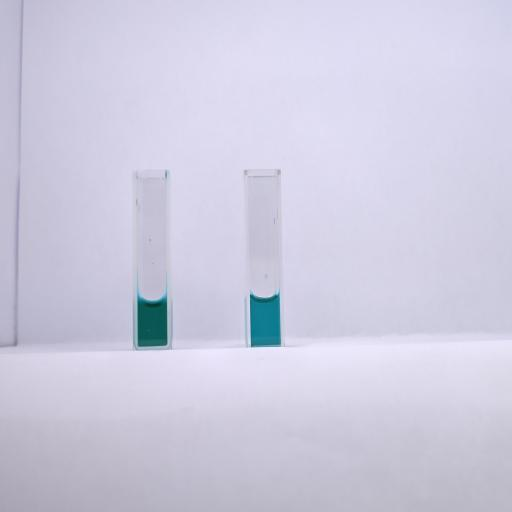cuvette: (130, 168, 174, 352), (242, 166, 286, 350)
liquid: (250, 294, 280, 346), (137, 297, 167, 346)
